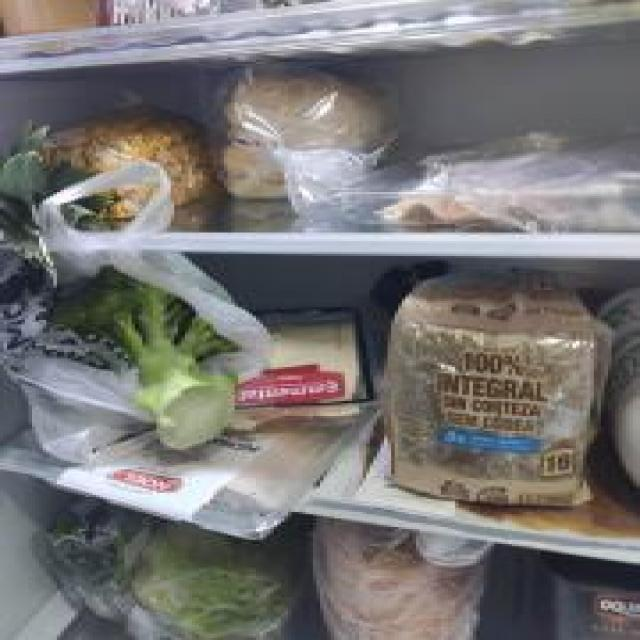bread: (376, 270, 604, 513)
broccoli: (41, 264, 240, 452)
cheese: (261, 307, 375, 425)
milk: (611, 293, 640, 519)
pineapple: (0, 106, 213, 224)
